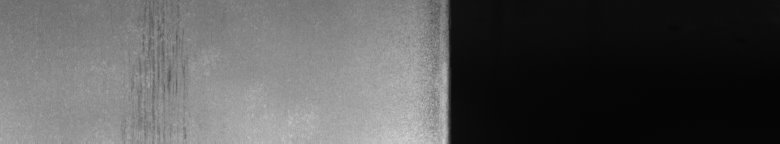ka: (136, 16, 187, 136)
